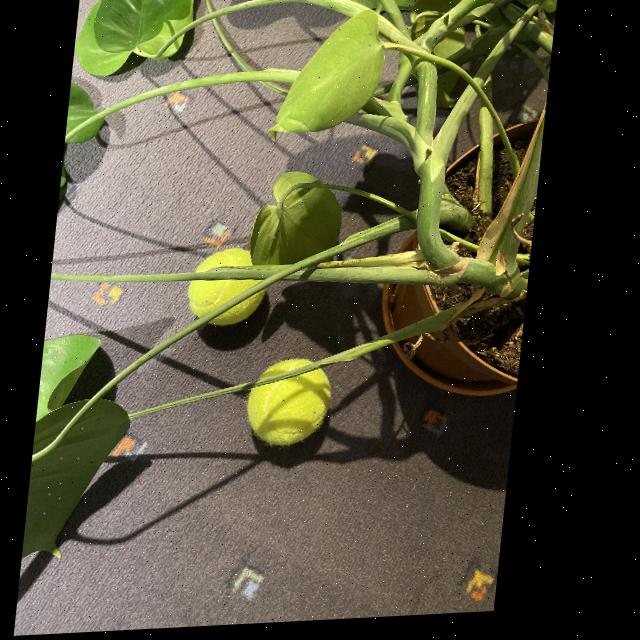Tennisball: (247, 369, 331, 446), (188, 280, 260, 318), (211, 292, 263, 325), (198, 248, 252, 268), (262, 359, 310, 378)
